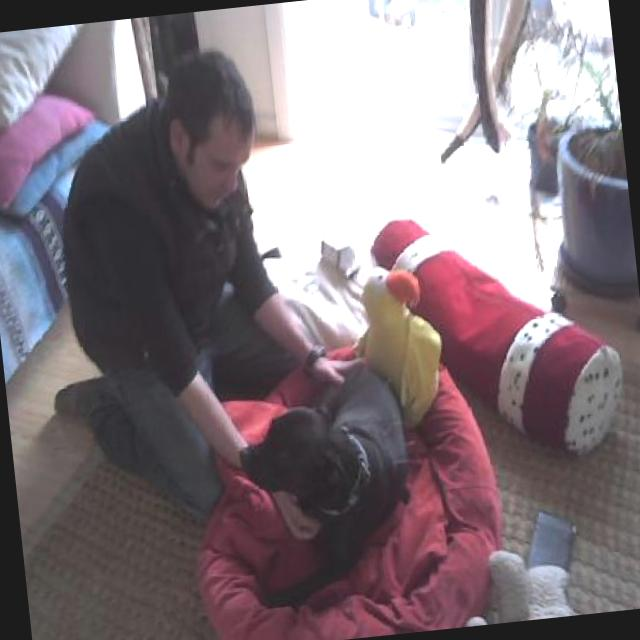Person: (25, 31, 358, 562)
